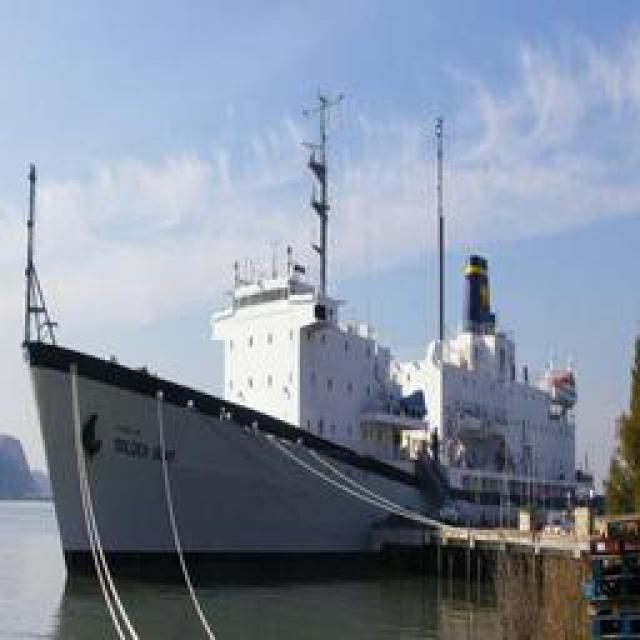Ship: (54, 146, 589, 551)
